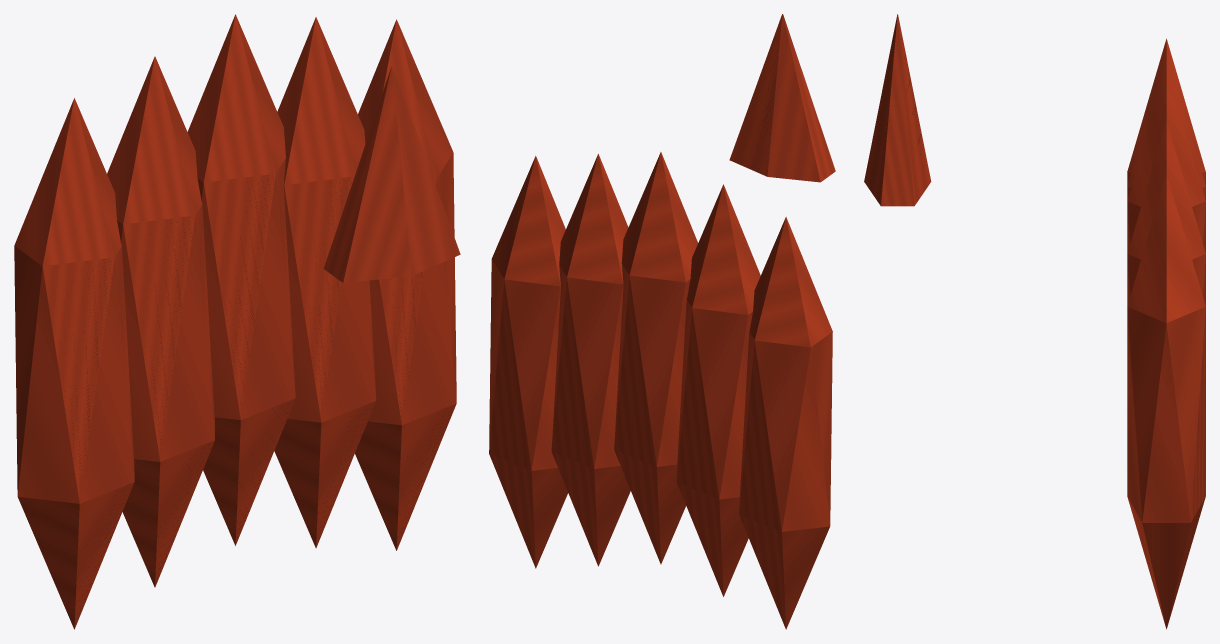
Rendered from flame_cloak.glb.
3 renders of one model, left to right at view 1: azimuth 30°, elevation 25°; view 2: azimuth 150°, elevation 25°; view 3: azimuth 270°, elevation 25°, orthographic. The views are drawn at different scales.
Parts seen in each view (by area): view 1: gear_flame_cloak; view 2: gear_flame_cloak; view 3: gear_flame_cloak.
Part boxes in pixels (box(x1,y1,x2,y2)): gear_flame_cloak: box(14, 14, 460, 629); gear_flame_cloak: box(489, 14, 835, 629); gear_flame_cloak: box(864, 14, 1205, 629).
Bounding box in the file's own units: 0.5142 × 0.72 × 0.4068.
1 material, 1 textured.
